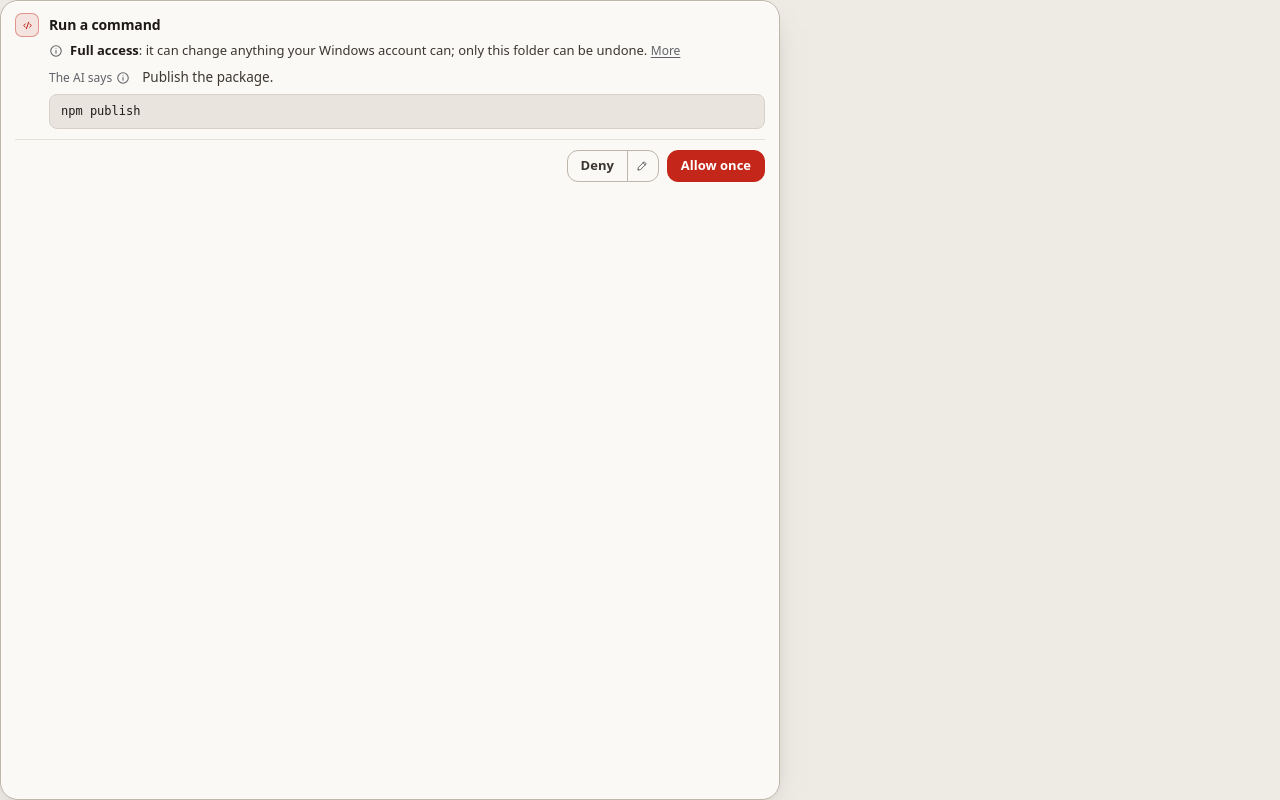
Test: the card that asks › says on one line, before the AI's words, the reason's name and what it means, and keeps the rest for More
What coordinates should you click on to do the following:
click the button "More"
I would click on:
 (666, 51)
Its box is [651,42,680,59].
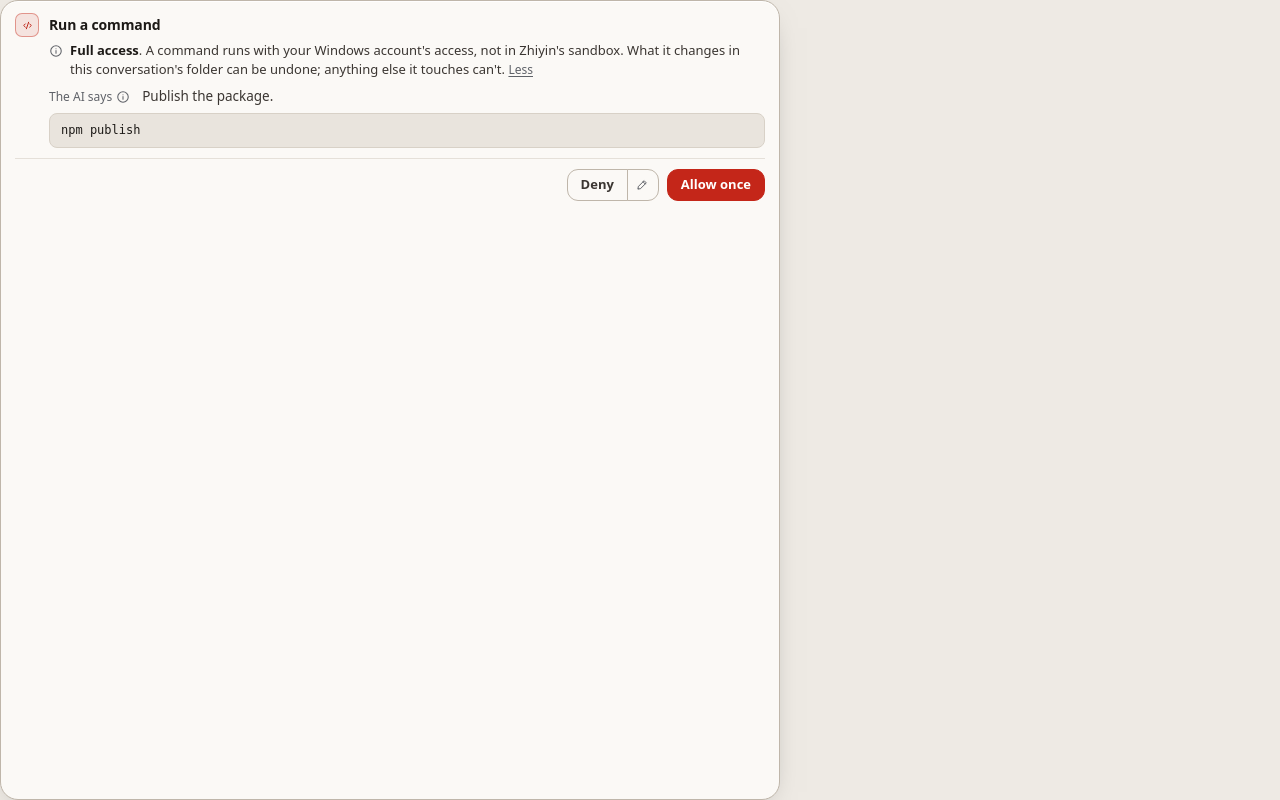
expect the element named "Why you’re asked" shows "anything else it touches can't": met, box [70,41,740,78]
